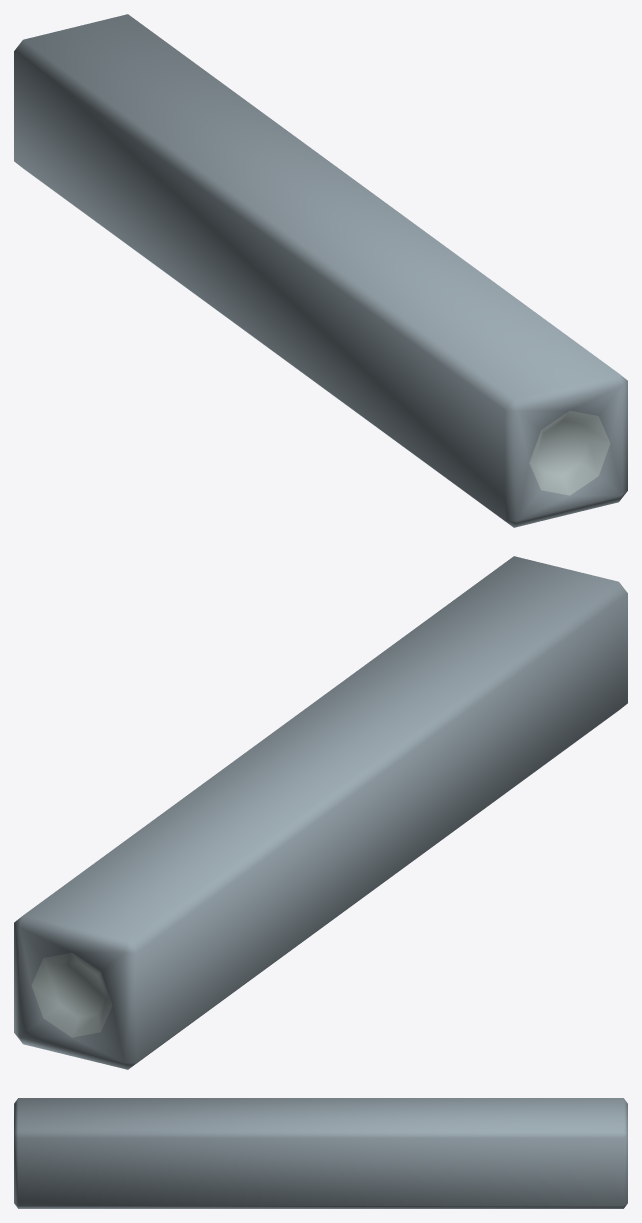
File: SM_PlasticBar_002.fbx
3 views of the same model, one above another, from view 1: azimuth 30°, elevation 25°; view 2: azimuth 150°, elevation 25°; view 3: azimuth 270°, elevation 25° (orthographic). The views are drawn at different scales.
Visible parts, largest first — view 1: PlasticBar.002; view 2: PlasticBar.002; view 3: PlasticBar.002.
Boxes of the visible parts, box(x1,y1,x2,y2) form: PlasticBar.002: box(14, 14, 627, 527); PlasticBar.002: box(14, 556, 627, 1069); PlasticBar.002: box(14, 1098, 627, 1208).
Bounding box in the file's own units: 10.16 × 10.16 × 71.21.
